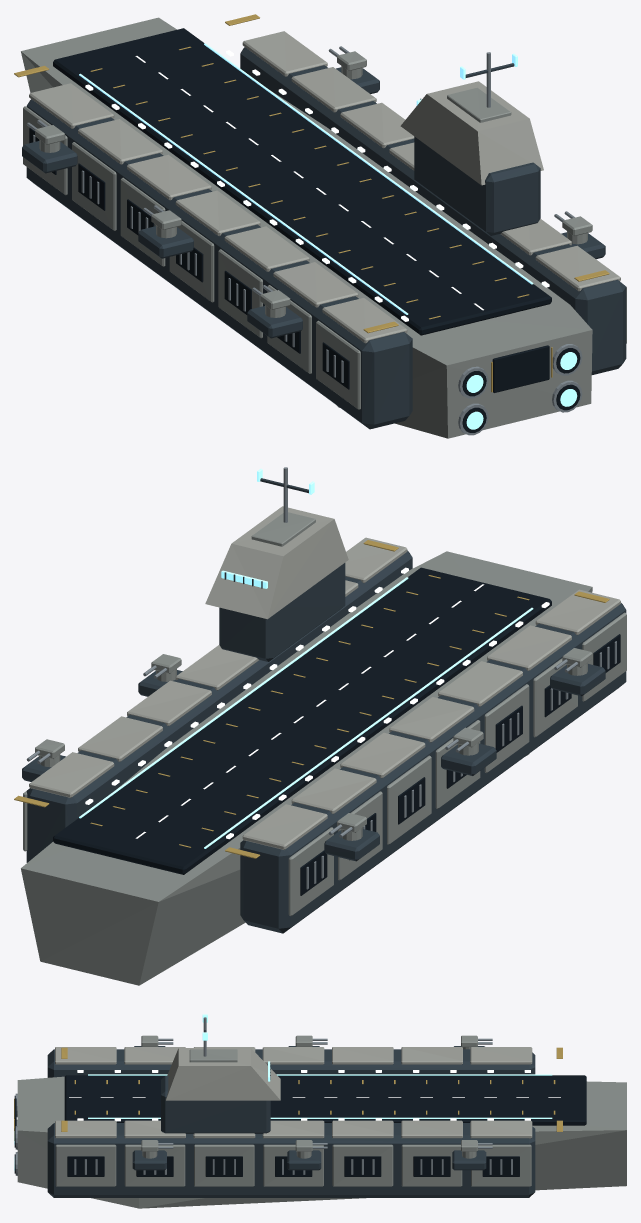
The model's file is resolute_fleet_a.glb.
3 renders of one model, top to bottom at view 1: azimuth 30°, elevation 25°; view 2: azimuth 150°, elevation 25°; view 3: azimuth 270°, elevation 25°, orthographic. The views are drawn at different scales.
Visible parts, largest first — view 1: SFS_Resolute_Flotte_A; view 2: SFS_Resolute_Flotte_A; view 3: SFS_Resolute_Flotte_A.
Boxes of the visible parts, x1,y1,x2,y2 form: SFS_Resolute_Flotte_A: [14, 14, 626, 438]; SFS_Resolute_Flotte_A: [14, 467, 626, 985]; SFS_Resolute_Flotte_A: [14, 1014, 626, 1208].
Size of the model in its own units: 259 by 200 by 576.
